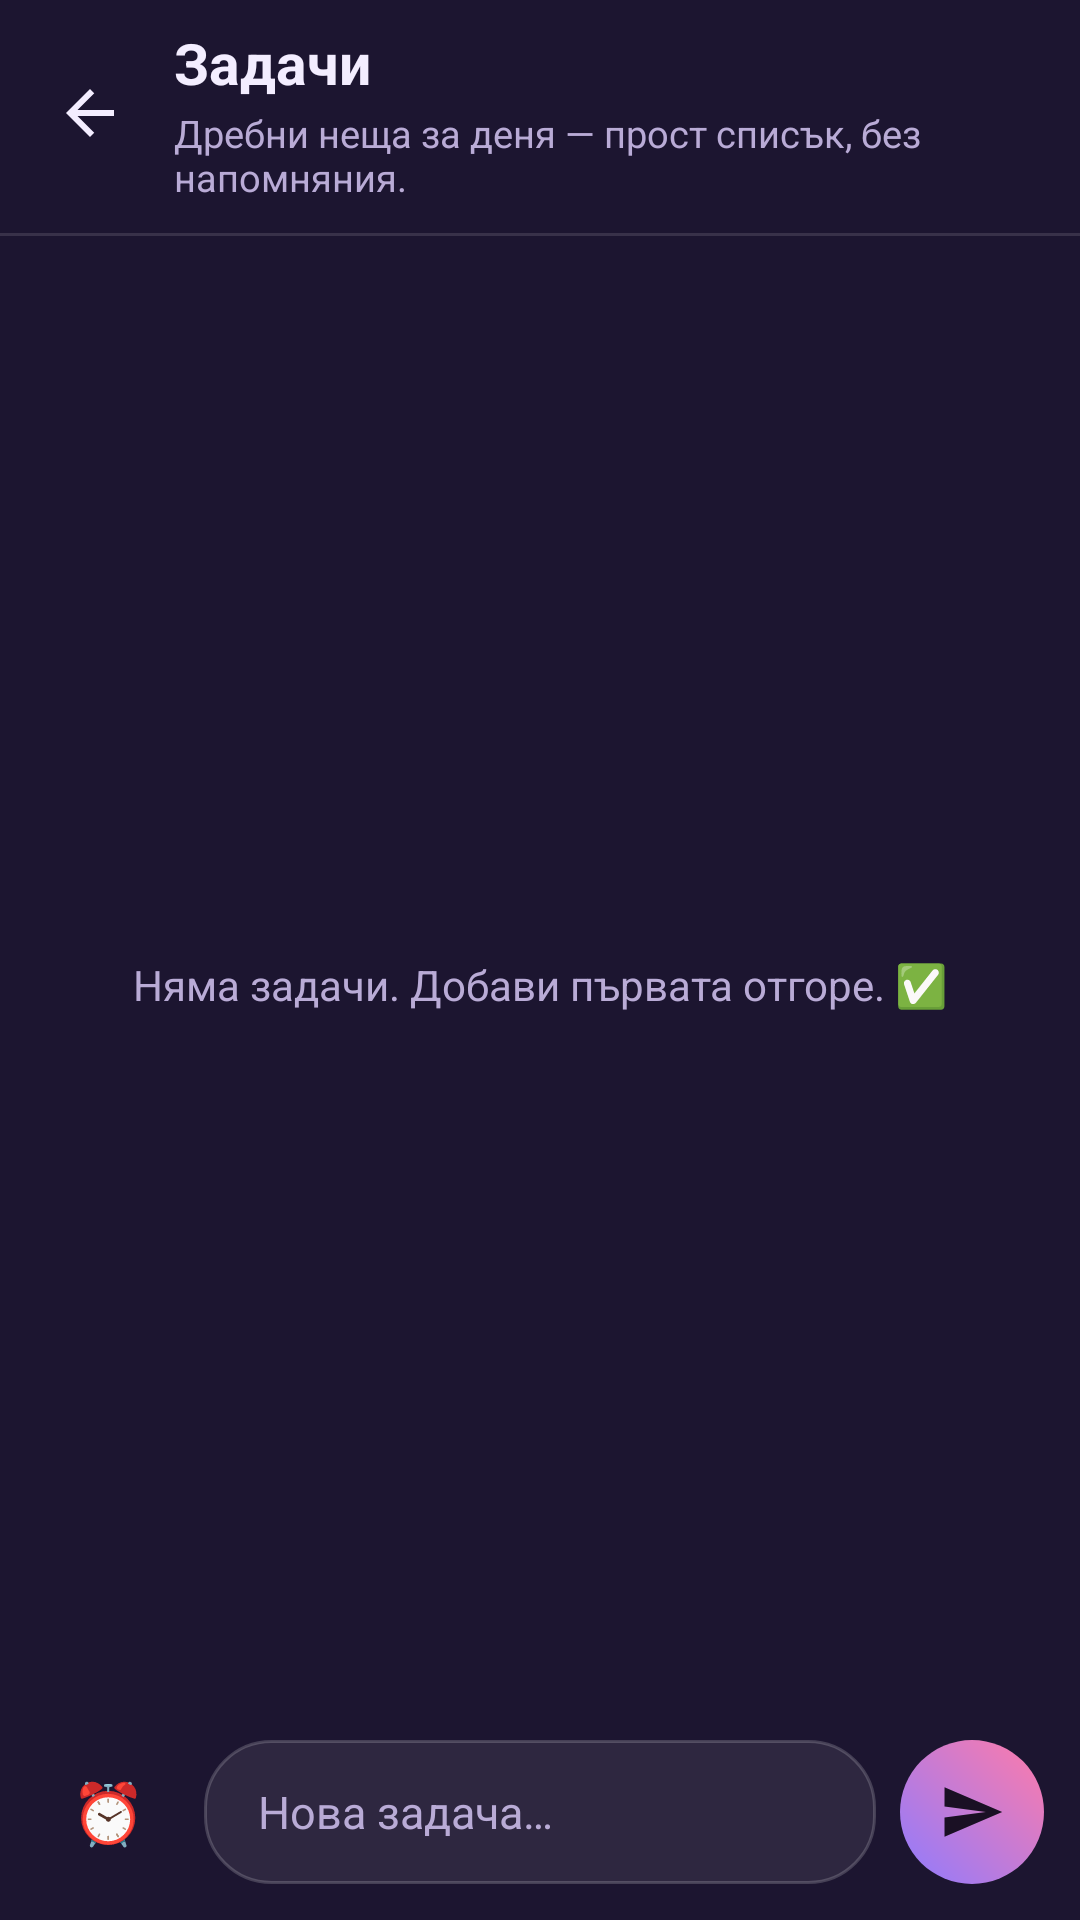

Locate icon controls on the screen. Image size 1080×1920, boxes as (x1, y1, x2, y2).
Назад: (66, 89, 114, 137)
